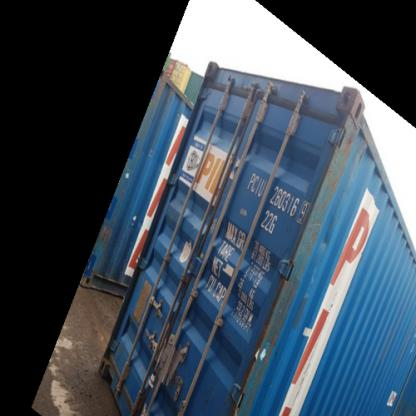Damage: (272, 197, 333, 317), (325, 87, 355, 225), (242, 312, 276, 400)
